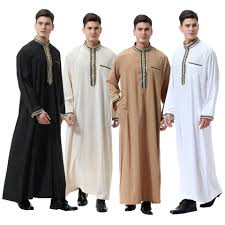middle_eastern_male: (83, 21, 105, 44)
